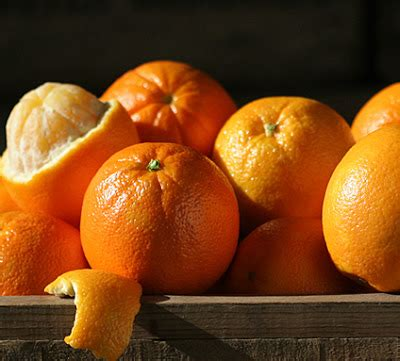orange: (76, 141, 243, 292), (211, 94, 352, 222), (88, 59, 237, 158)
